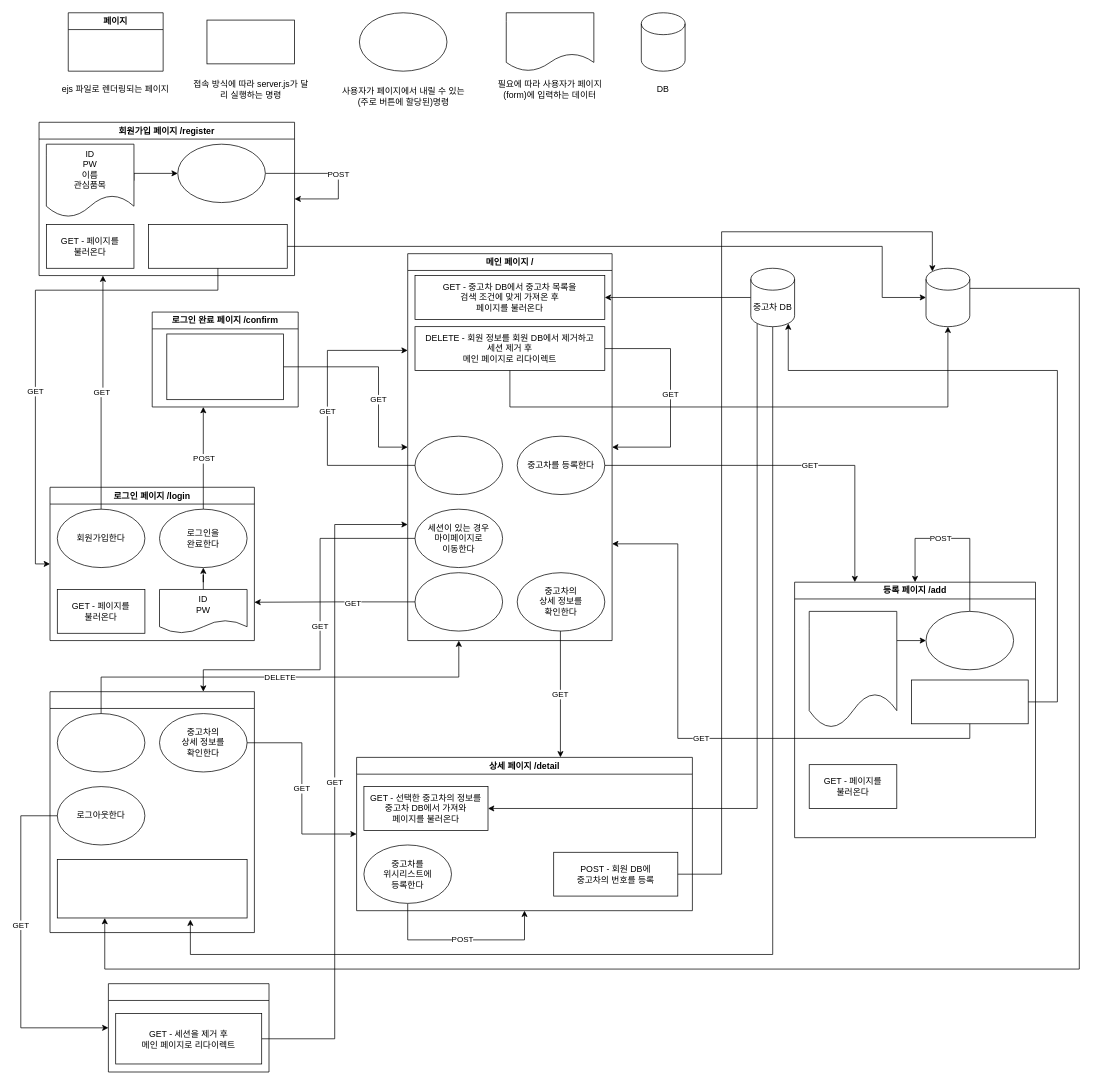
Some shapes in this 1098 by 1085 pixel diagram are drawn without their labels. The box of each missing label's shape, as (x1, y1, x2, y2) in pixels:
GET - 세션에 있는 로그인 정보를 바탕으로 위시리스트와 내가 등록한 중고차 목록을 회원 DB와 중고차 DB에서 가져와 페이지를 불러온다: (57, 859, 247, 918)
POST - 입력한 로그인 정보를 바탕으로 세션을 생성한 후 메인 페이지로 리다이렉트: (166, 333, 284, 400)
POST - 입력한 정보를 중고차 DB에 등록한 후 메인 페이지로 리다이렉트: (911, 679, 1028, 724)
POST - 입력한 정보를 회원 DB에 저장한 후 로그인 페이지로 리다이렉트: (148, 224, 287, 268)
등록을 완료한다: (925, 611, 1014, 670)
로그아웃 페이지 /logout: (108, 983, 269, 1072)
마이 페이지 /mypage: (49, 691, 254, 933)
세션이 없는 경우 로그인 한다: (414, 572, 503, 631)
이름 연식 사고이력 가격 제조사 일련번호 번호판: (808, 611, 897, 728)
중고차를 검색한다: (414, 435, 503, 495)
회원 DB: (925, 268, 970, 327)
회원가입을 완료한다: (177, 143, 265, 203)
회원탈퇴한다: (57, 713, 145, 772)
